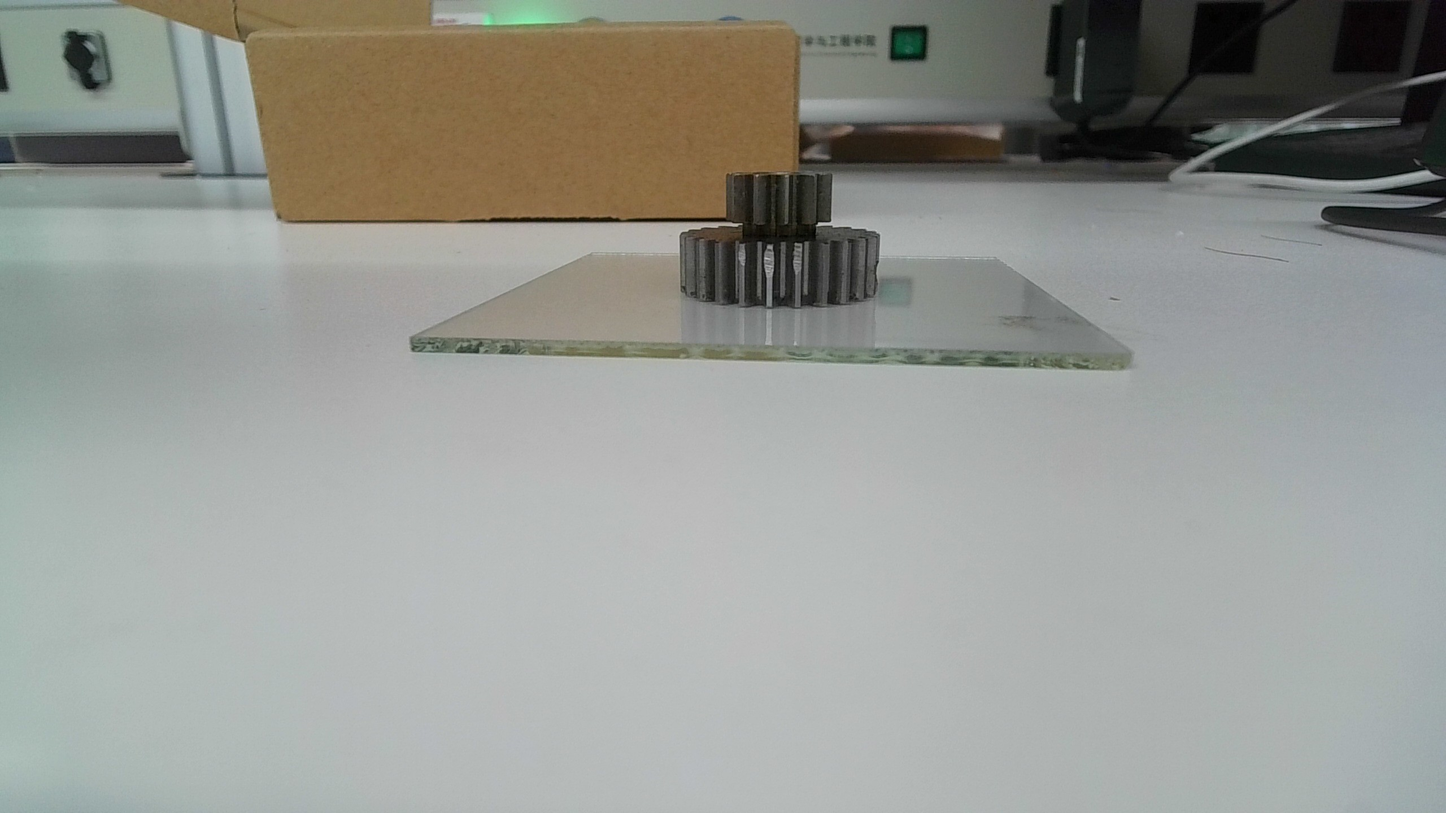gear: (674, 165, 884, 311)
